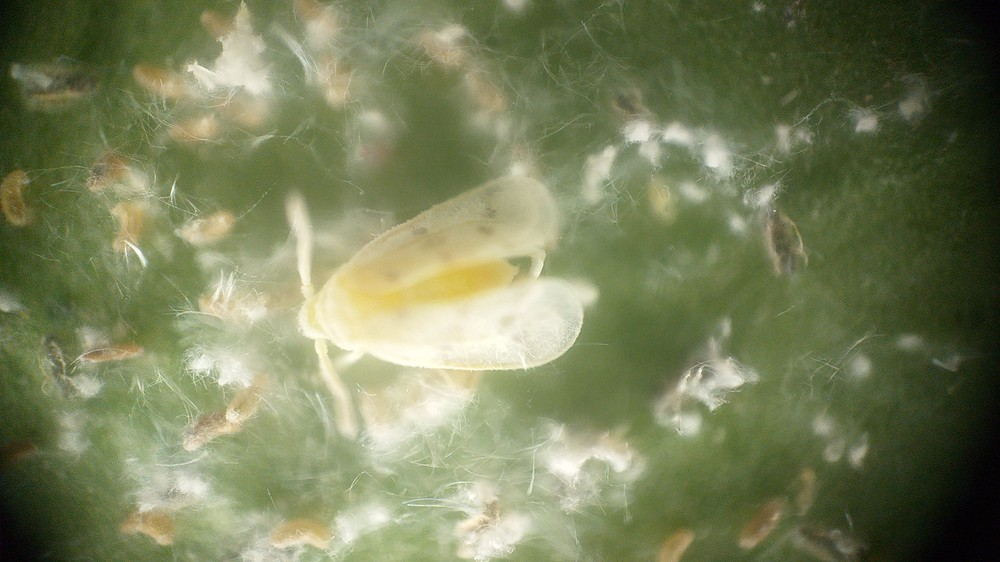Mosca Blanca: (256, 154, 634, 446)
